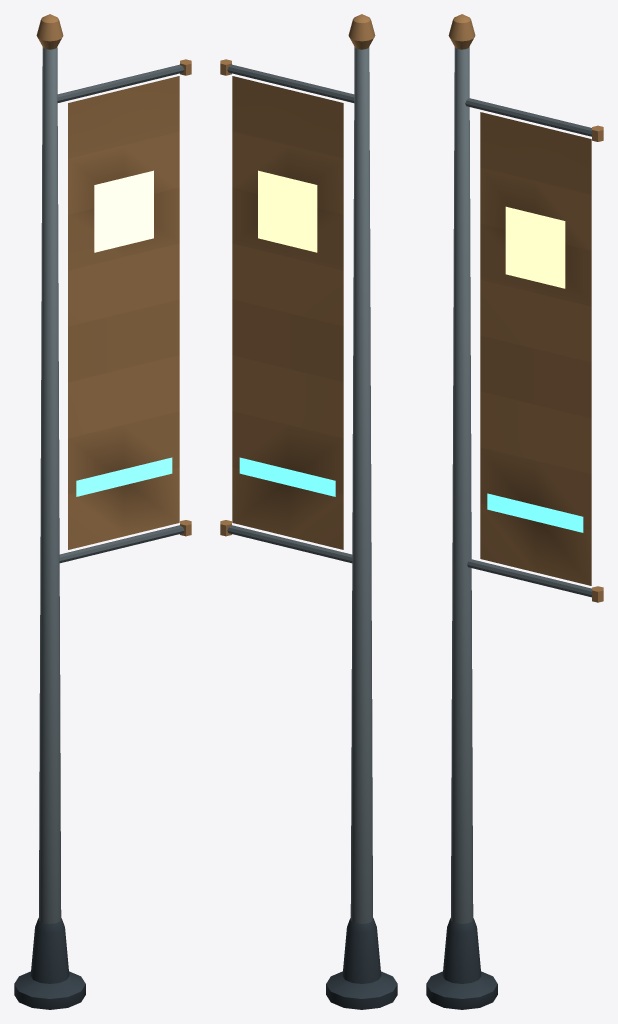
Rendered from banner-mast.lod0.glb.
3 views of the same model, side by side, from view 1: azimuth 30°, elevation 25°; view 2: azimuth 150°, elevation 25°; view 3: azimuth 330°, elevation 25° (orthographic).
Visible parts, largest first — view 1: banner, structure; view 2: banner, structure; view 3: banner, structure.
Part boxes in pixels (x1,y1,x2,y2): banner: (68,76,179,549); structure: (14,14,191,1009); banner: (232,76,343,549); structure: (220,14,397,1009); banner: (480,112,591,585); structure: (426,14,603,1009).
Size of the model in its own units: 1.33 by 7.24 by 0.4799.
